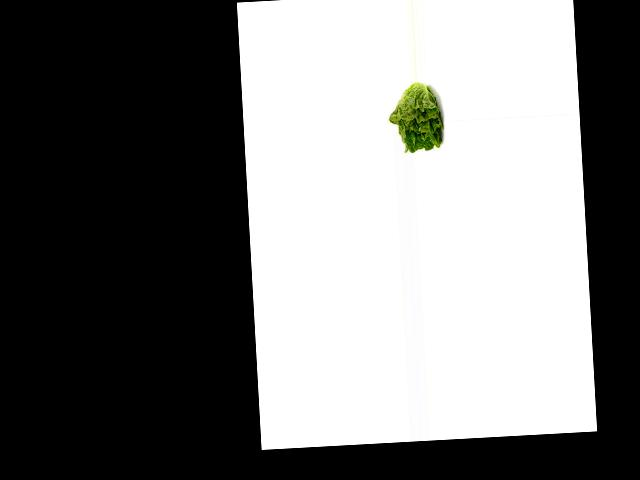lettuce: (388, 81, 448, 153)
